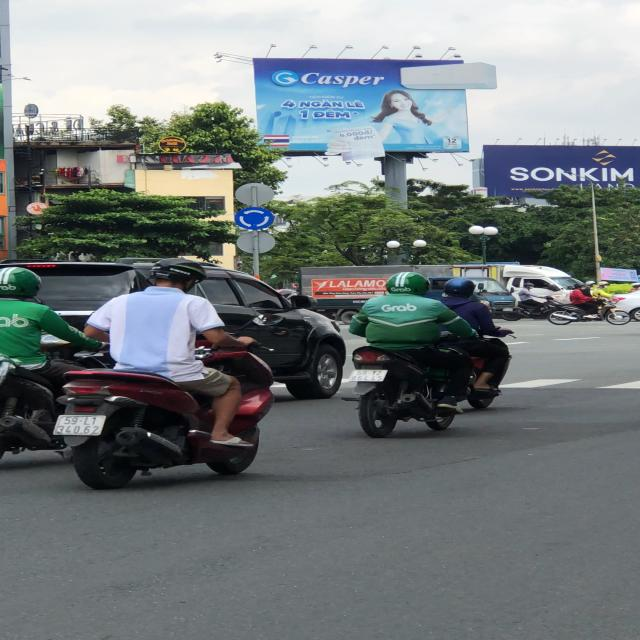Bien bao noi giao nhau chay theo vong xuyen: (232, 204, 278, 231)
